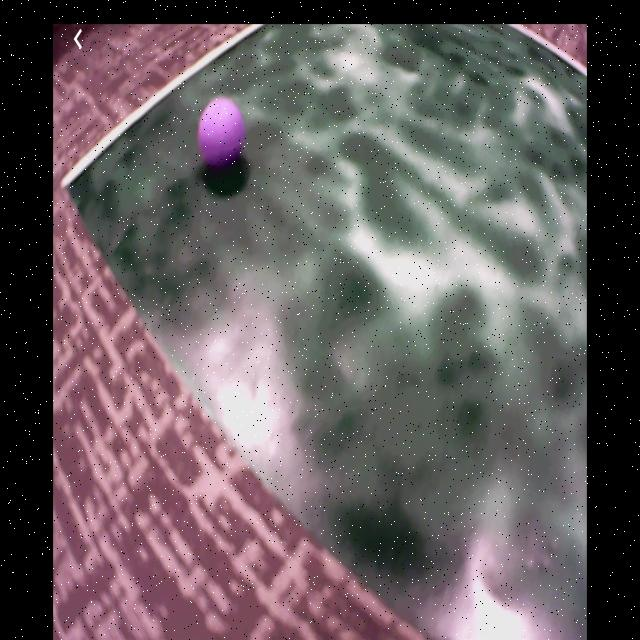ball: (200, 98, 243, 169)
